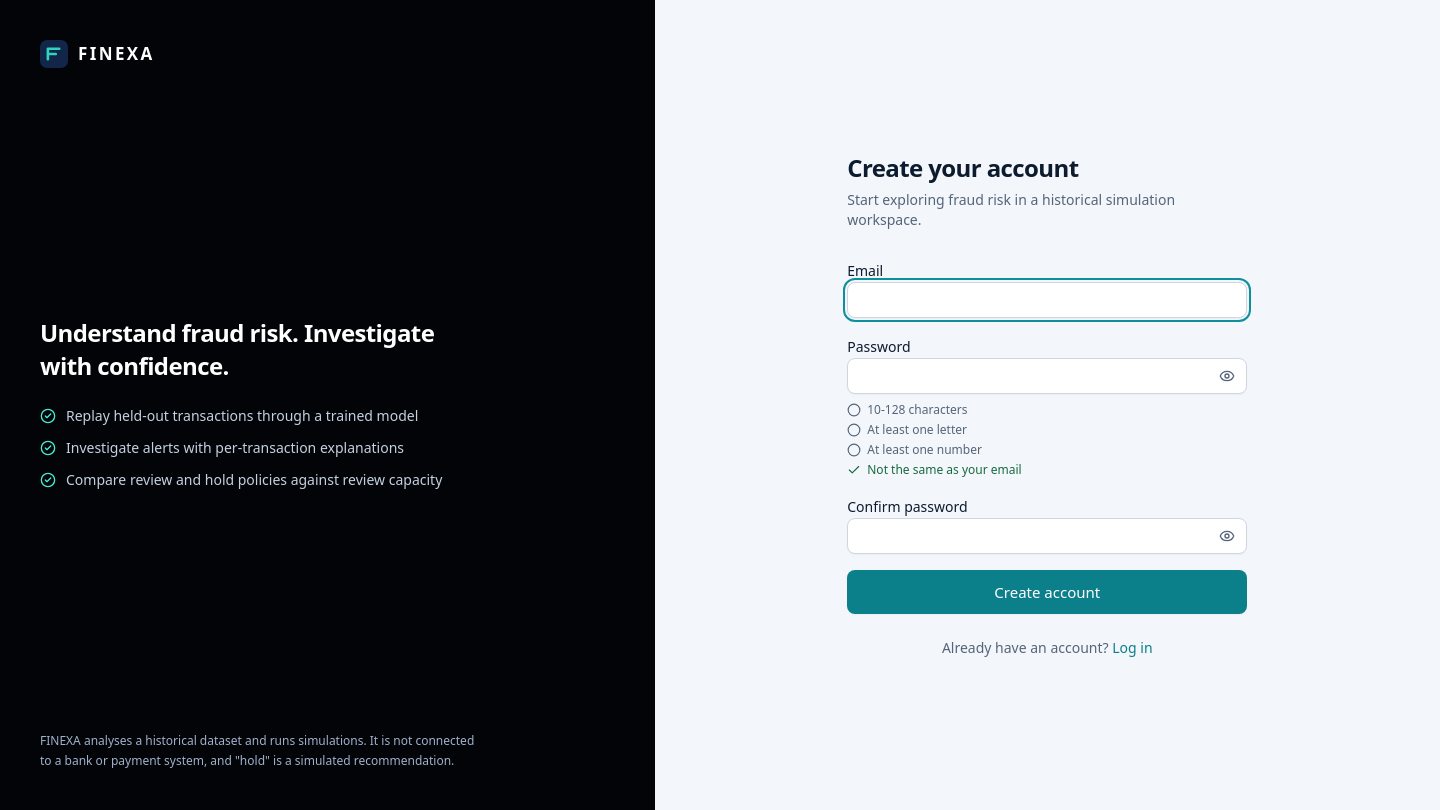
Scenario: signup form › shows requirements, validates each rule, and does not submit an invalid form
Check: the list named "password requirements" shows "10-128 characters", box left=867, top=401, right=968, bottom=418
In the field labelled "Email": [1047, 300] box left=847, top=282, right=1247, bottom=318, type "ana@example.com"
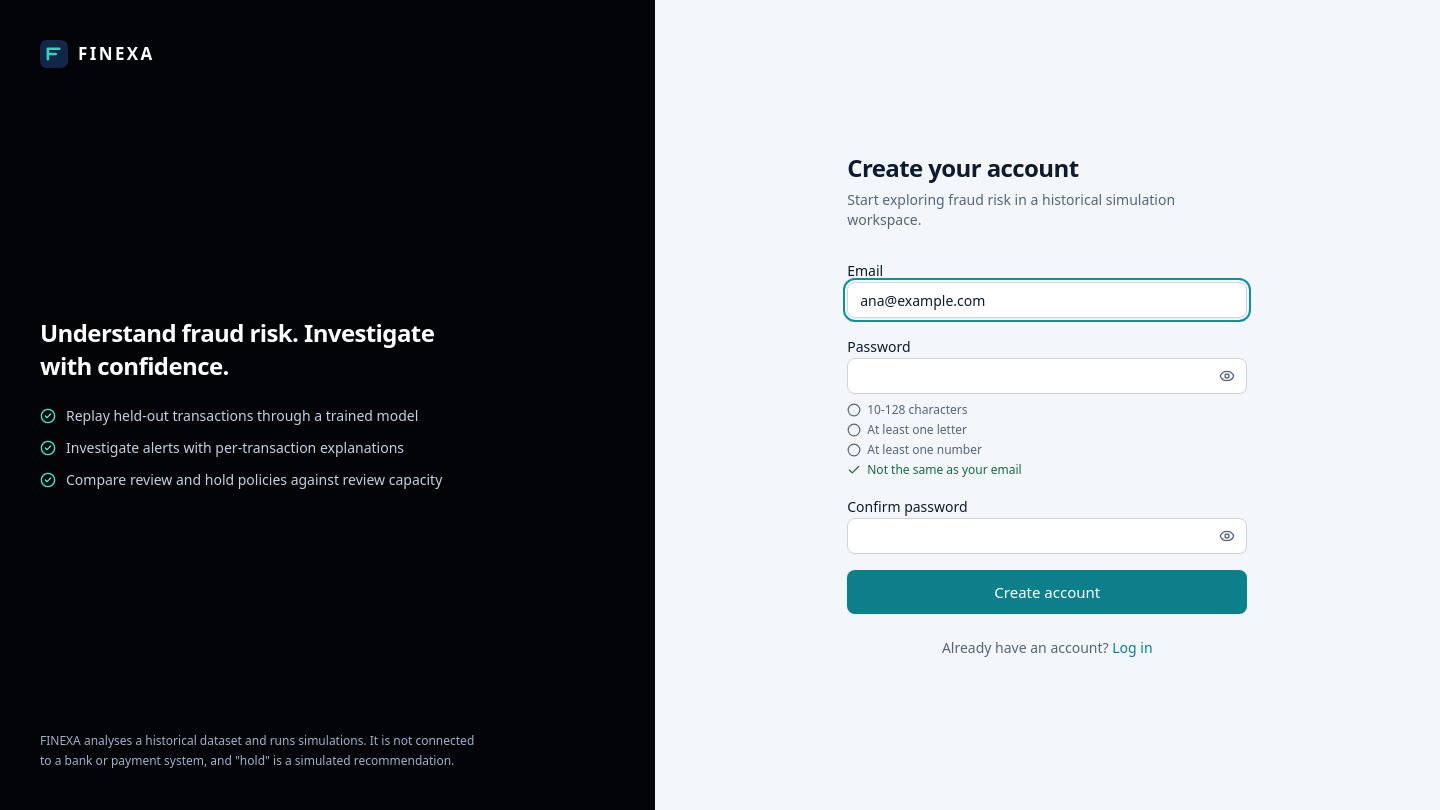
In the password field labelled "Password": [1047, 376] box left=847, top=358, right=1247, bottom=394, type "short1"
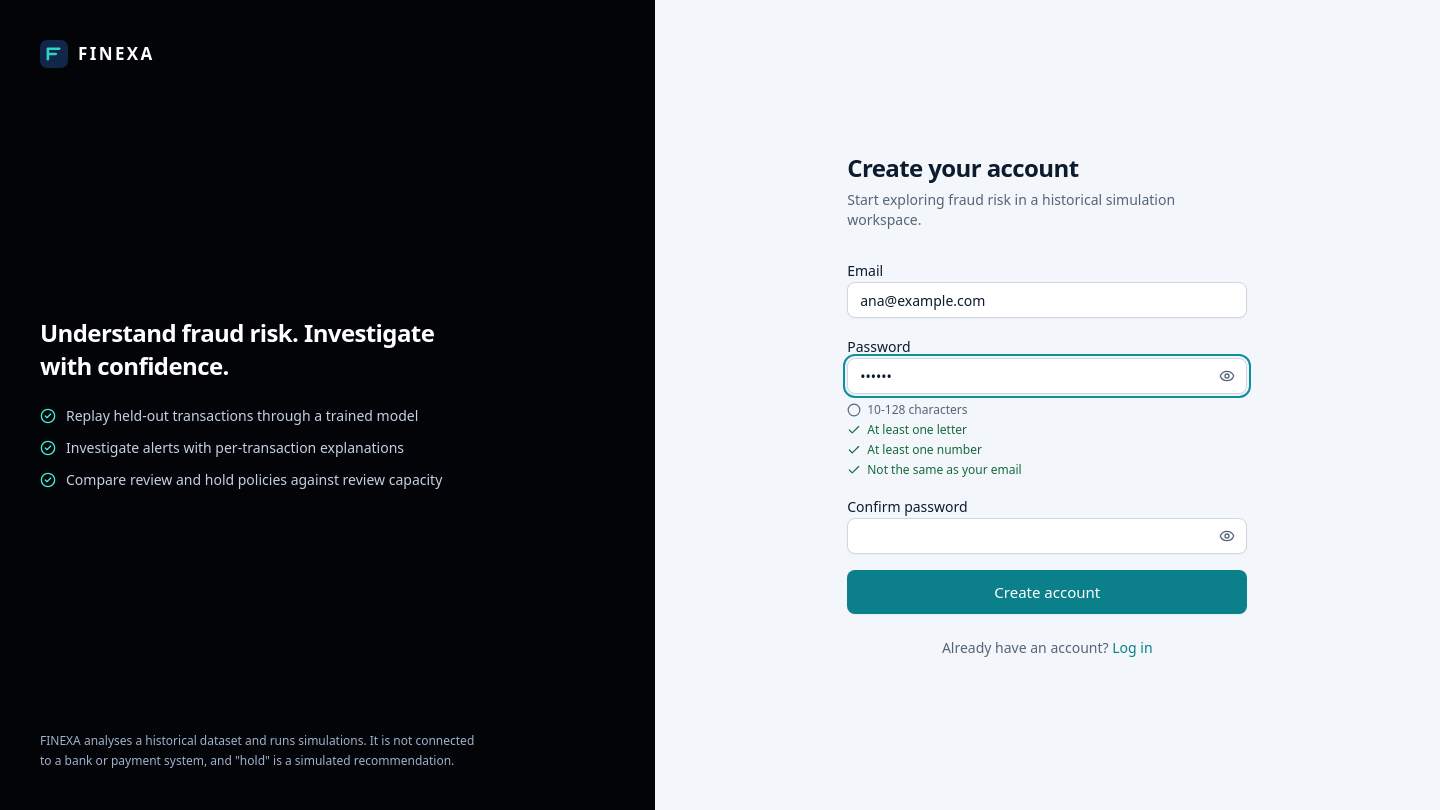
In the password field labelled "Confirm password": [1047, 536] box left=847, top=518, right=1247, bottom=554, type "different"
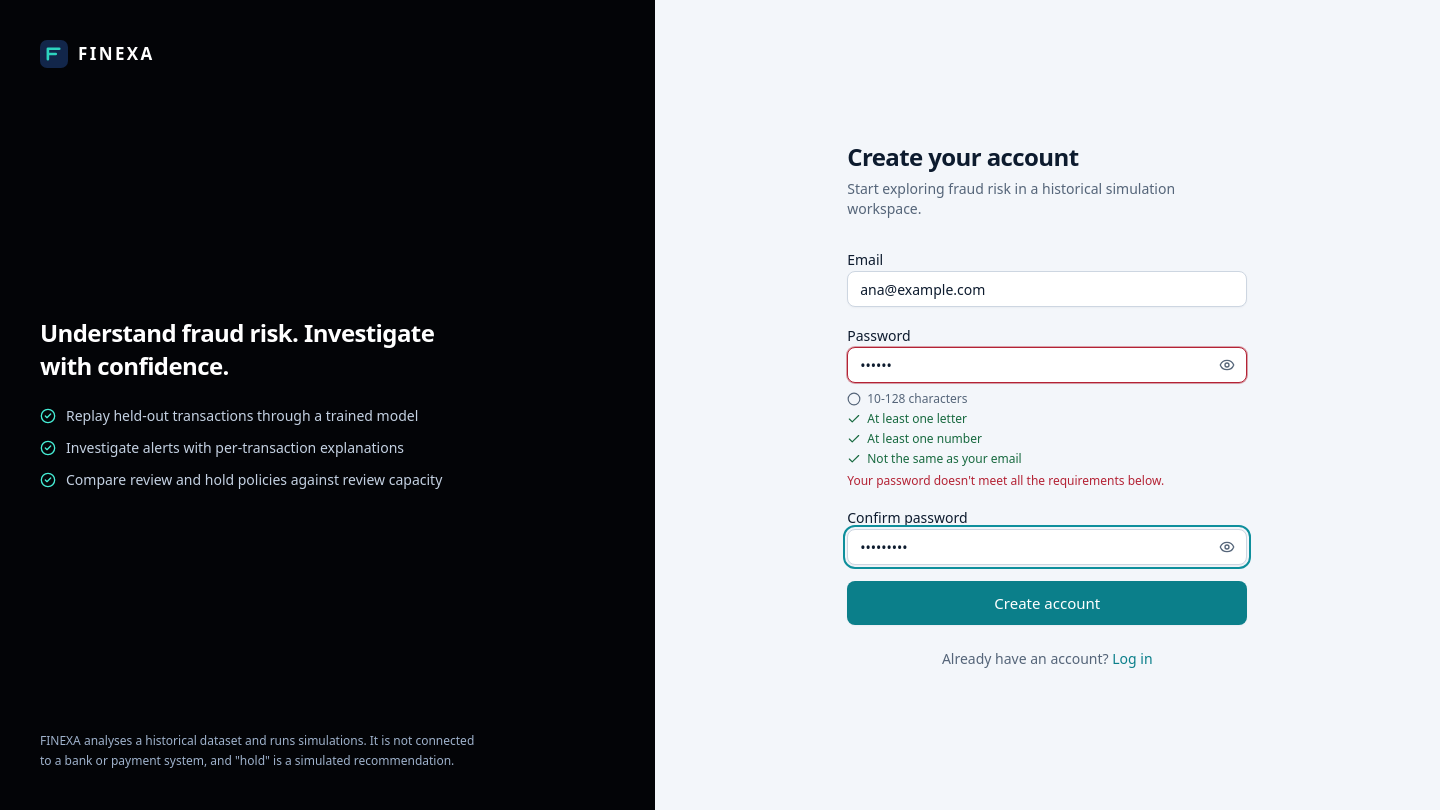
Click the button "Create account": [1047, 603] box left=847, top=581, right=1247, bottom=625
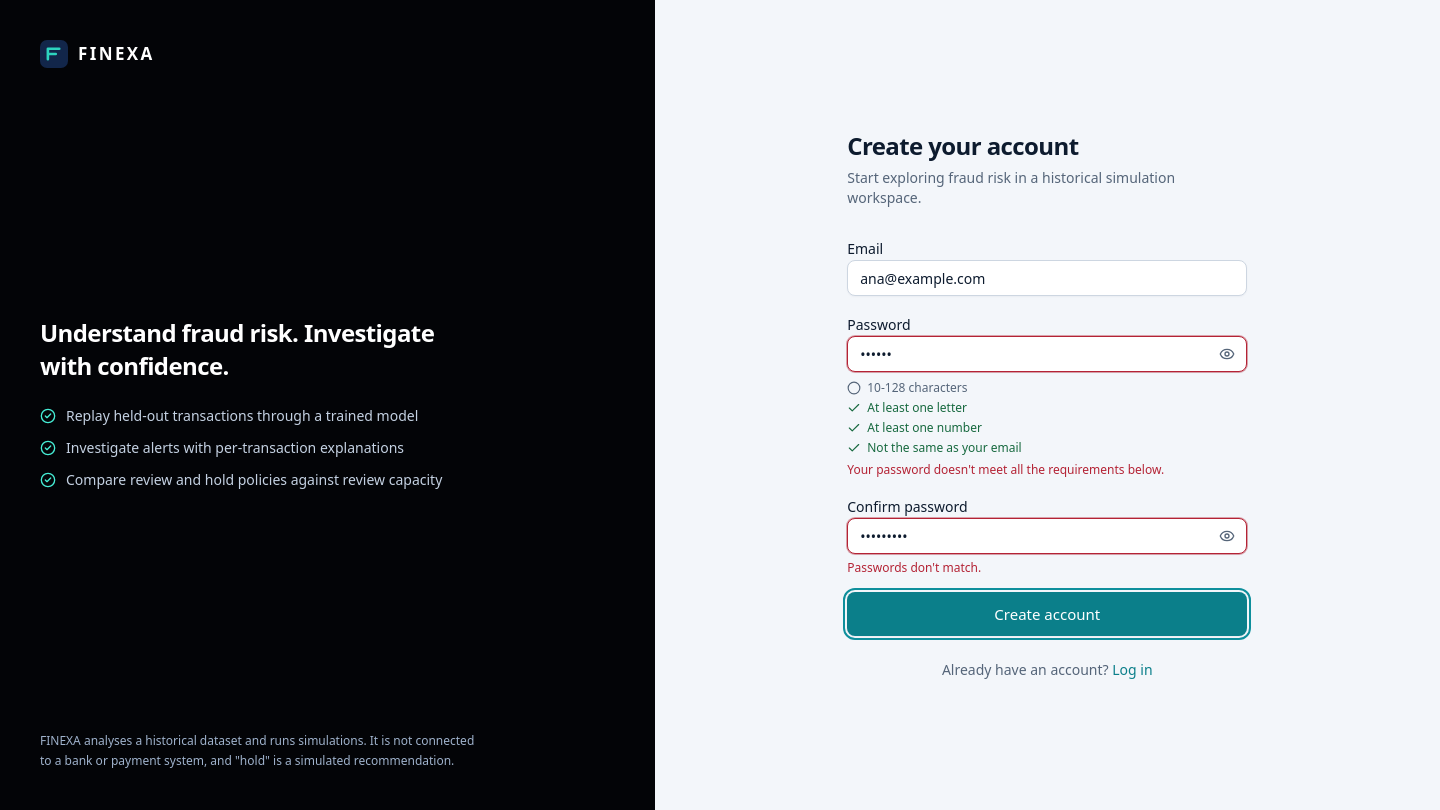
Check: the text "Your password doesn't meet all the requirements below." is shown, box left=847, top=461, right=1164, bottom=478
Check: the text "Passwords don't match." is shown, box left=847, top=559, right=981, bottom=576
